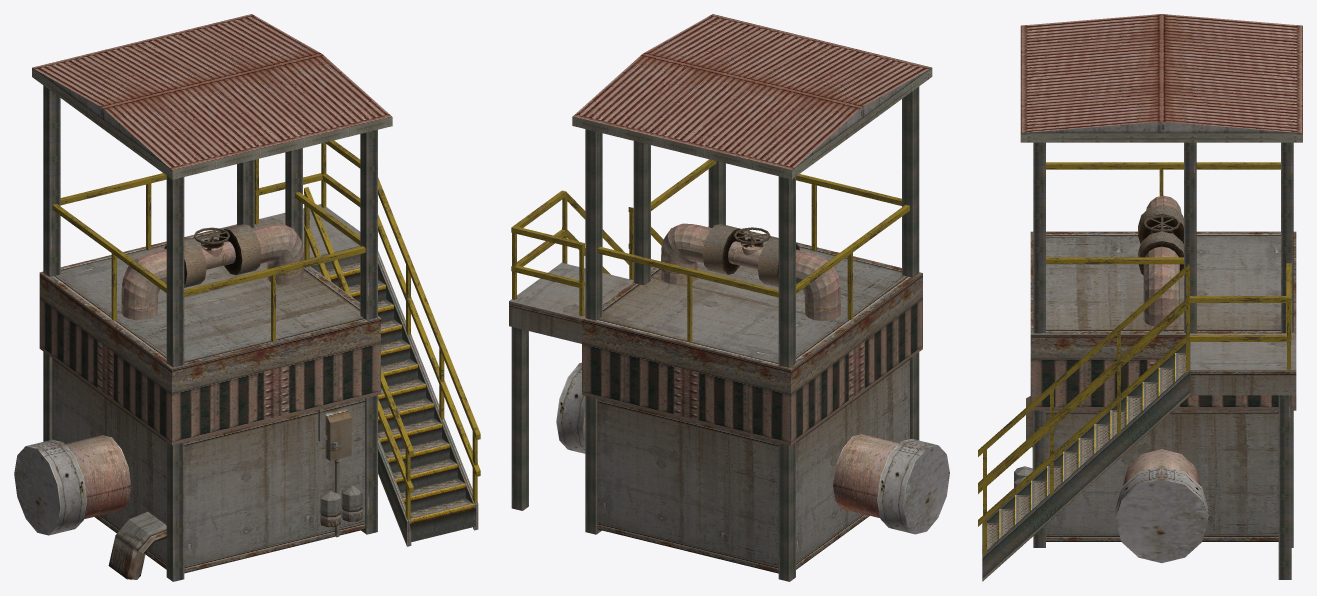
Rendered from OSHUT01.glb.
The picture shows the model from 3 angles, left to right: view 1: azimuth 30°, elevation 25°; view 2: azimuth 150°, elevation 25°; view 3: azimuth 270°, elevation 25°; orthographic projection.
Parts seen in each view (by area): view 1: _OSHUT01; view 2: _OSHUT01; view 3: _OSHUT01.
Boxes of the visible parts, bbox=[...] form: _OSHUT01: bbox=[14, 14, 480, 581]; _OSHUT01: bbox=[509, 14, 949, 581]; _OSHUT01: bbox=[978, 14, 1302, 581].
Bounding box in the file's own units: 7.98 × 9.3 × 6.36.
Materials: 14 (14 with a texture image).
